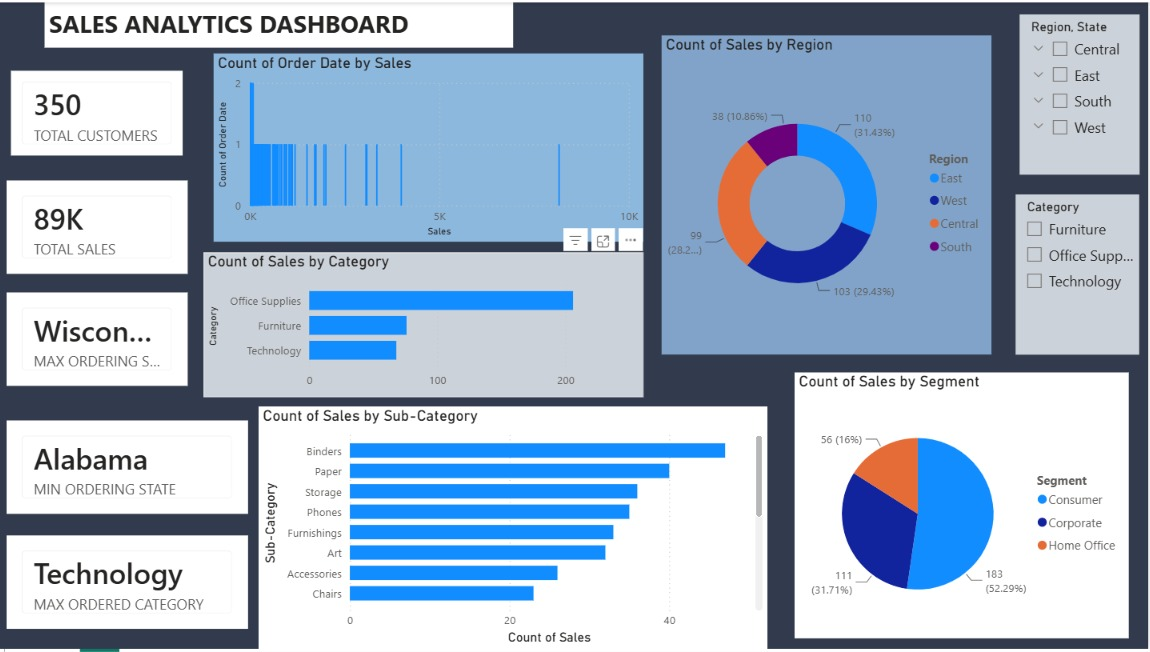

The page's visual inventory and layout, read from the dashboard file:
{"tool":"powerbi","page":{"name":"Page 1","canvas":[1280,720],"ordinal":0},"visuals":[{"type":"textbox","box":[50.8,0,521.4,50.8],"z":0},{"type":"cardVisual","fields":{"Data":["train.TOTAL CUSTOMERS1"]},"box":[9.5,71.6,201.4,104.1],"z":1000},{"type":"cardVisual","fields":{"Data":["train.TOTAL SALES"]},"box":[9.5,198.6,201.4,104.1],"z":2000},{"type":"clusteredColumnChart","fields":{"Category":["train.Sales"],"Y":["CountNonNull(train.Order Date)"]},"box":[239.2,56.8,478.4,209.5],"z":3000},{"type":"clusteredBarChart","fields":{"Category":["train.Category"],"Y":["CountNonNull(train.Sales)"]},"box":[228.4,278.4,489.2,160.8],"z":4000},{"type":"clusteredBarChart","fields":{"Y":["CountNonNull(train.Sales)"],"Category":["train.Sub-Category"]},"box":[289.2,450,566.2,270.3],"z":5000},{"type":"donutChart","fields":{"Y":["CountNonNull(train.Sales)"],"Category":["train.Region"]},"box":[737.8,36.5,367.6,355.4],"z":6000},{"type":"pieChart","fields":{"Y":["CountNonNull(train.Sales)"],"Category":["train.Segment"]},"box":[886.5,412.2,371.6,295.9],"z":7000},{"type":"slicer","fields":{"Values":["train.Region","train.State"]},"box":[1136.5,13.5,133.8,178.4],"z":7001},{"type":"slicer","fields":{"Values":["train.Category"]},"box":[1132.4,213.5,137.8,178.4],"z":7002},{"type":"cardVisual","fields":{"Data":["train.ORDERING STATE"]},"box":[9.5,323,201.4,104.1],"z":7004},{"type":"cardVisual","fields":{"Data":["train.MIN ORDERING STATE"]},"box":[9.5,464.9,268.9,104.1],"z":7005},{"type":"cardVisual","fields":{"Data":["train.MAX ORDERED CATEGORY"]},"box":[9.5,593.2,268.9,104.1],"z":7006}]}

Visuals, with their boxes in screenshot pixels (x1, y1, x2, y2), scaled from the page's 1280x720 canvas onto the 1150x652 screenshot:
textbox: (46, 0, 514, 46)
cardVisual - train.TOTAL CUSTOMERS1: (9, 65, 189, 159)
cardVisual - train.TOTAL SALES: (9, 180, 189, 274)
clusteredColumnChart - train.Sales x CountNonNull(train.Order Date): (215, 51, 645, 241)
clusteredBarChart - train.Category x CountNonNull(train.Sales): (205, 252, 645, 398)
clusteredBarChart - CountNonNull(train.Sales) x train.Sub-Category: (260, 408, 769, 651)
donutChart - CountNonNull(train.Sales) x train.Region: (663, 33, 993, 355)
pieChart - CountNonNull(train.Sales) x train.Segment: (796, 373, 1130, 641)
slicer - train.Region x train.State: (1021, 12, 1141, 174)
slicer - train.Category: (1017, 193, 1141, 355)
cardVisual - train.ORDERING STATE: (9, 292, 189, 387)
cardVisual - train.MIN ORDERING STATE: (9, 421, 250, 515)
cardVisual - train.MAX ORDERED CATEGORY: (9, 537, 250, 631)
